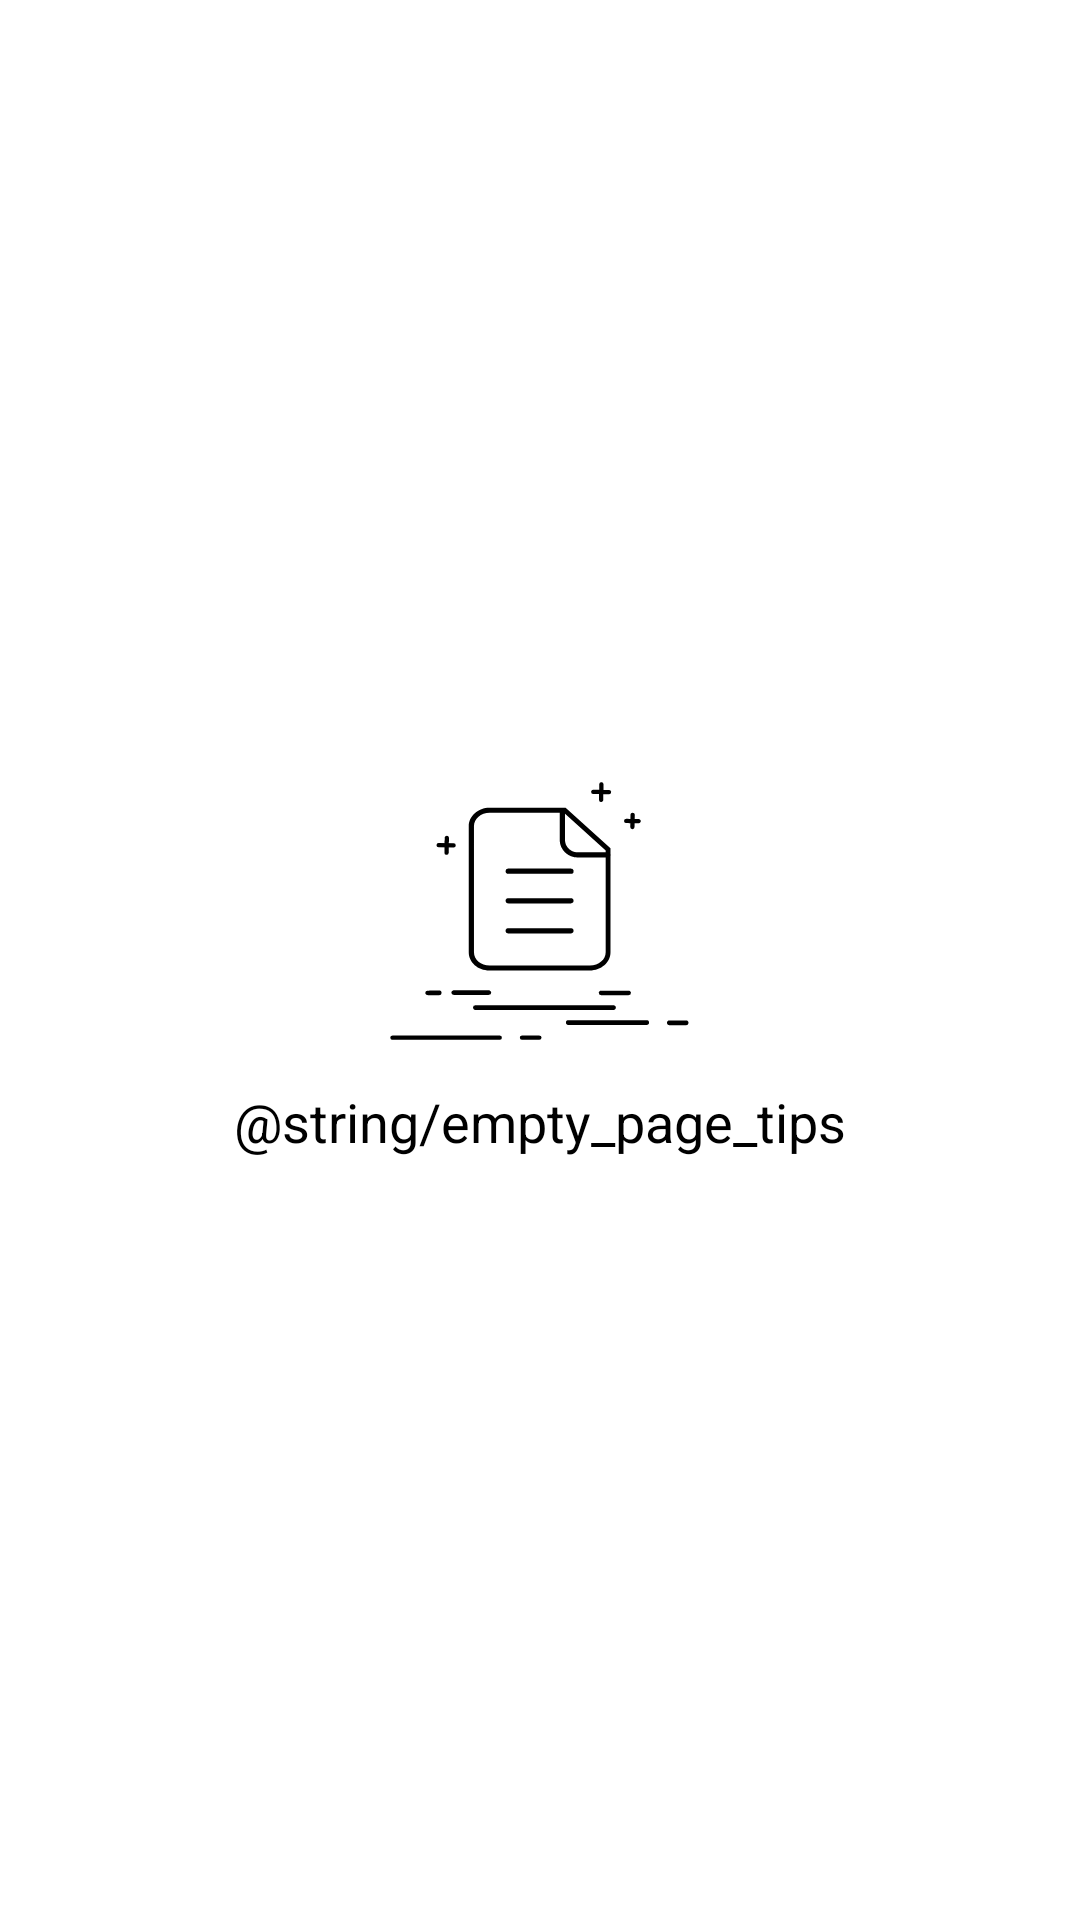

Point at icon controls on the screen. Image size 1080px×1920px, points as point (x, y).
no file: point (539, 911)
